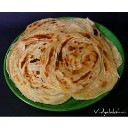parota: (41, 34, 118, 99), (13, 33, 70, 104)
